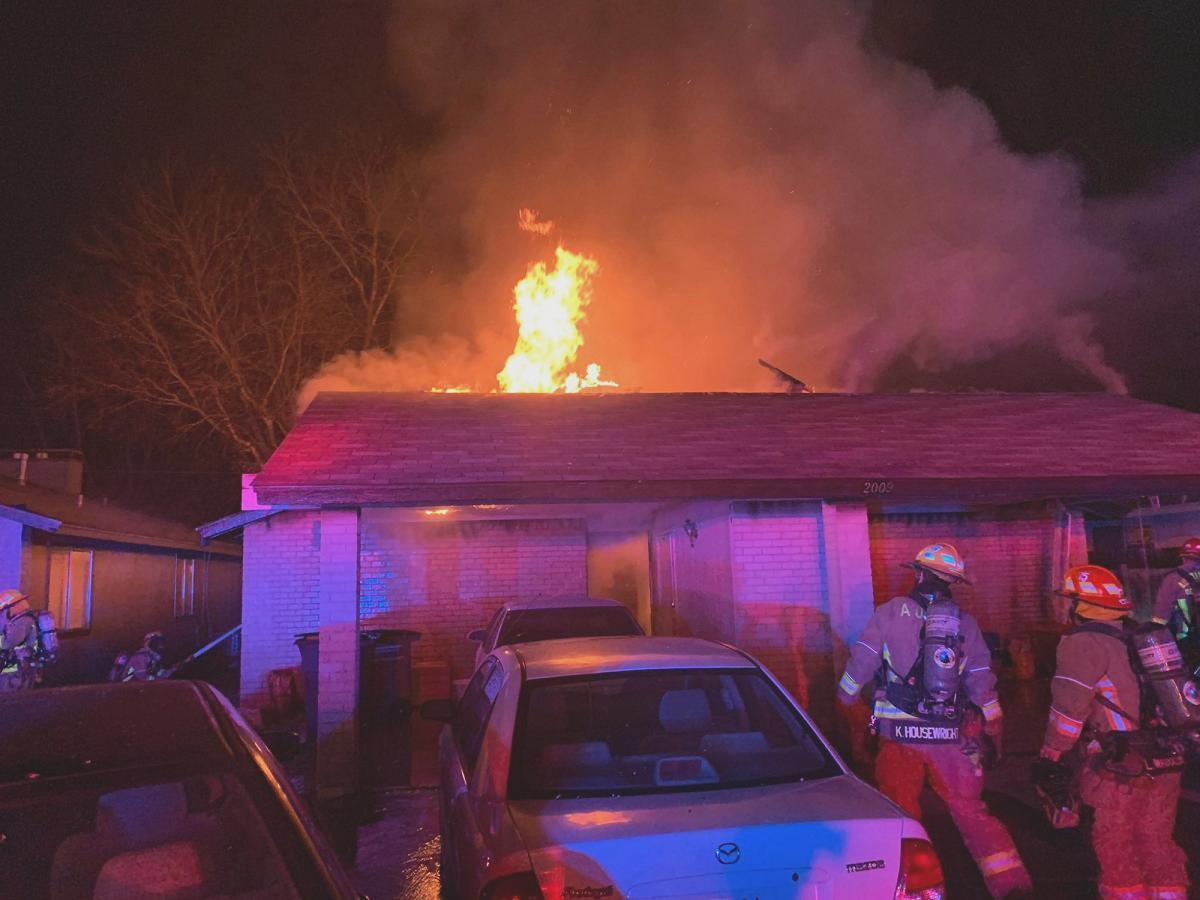Fire: (434, 203, 620, 397)
